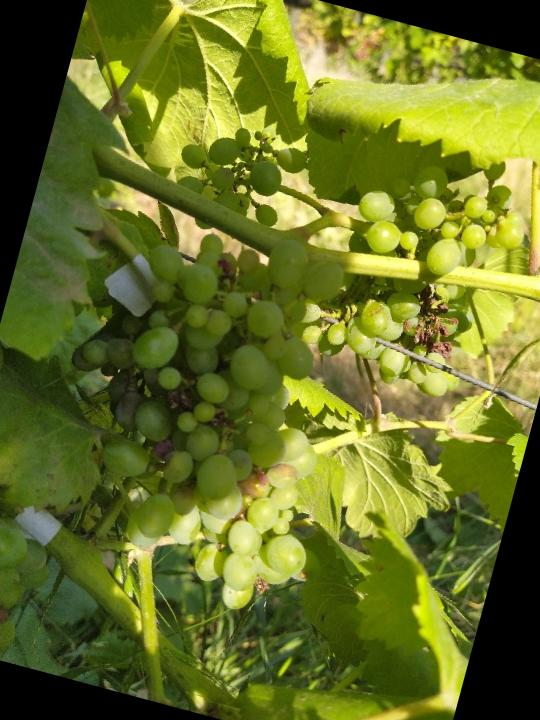grape: (16, 191, 391, 631), (314, 124, 540, 411), (161, 109, 312, 253)
